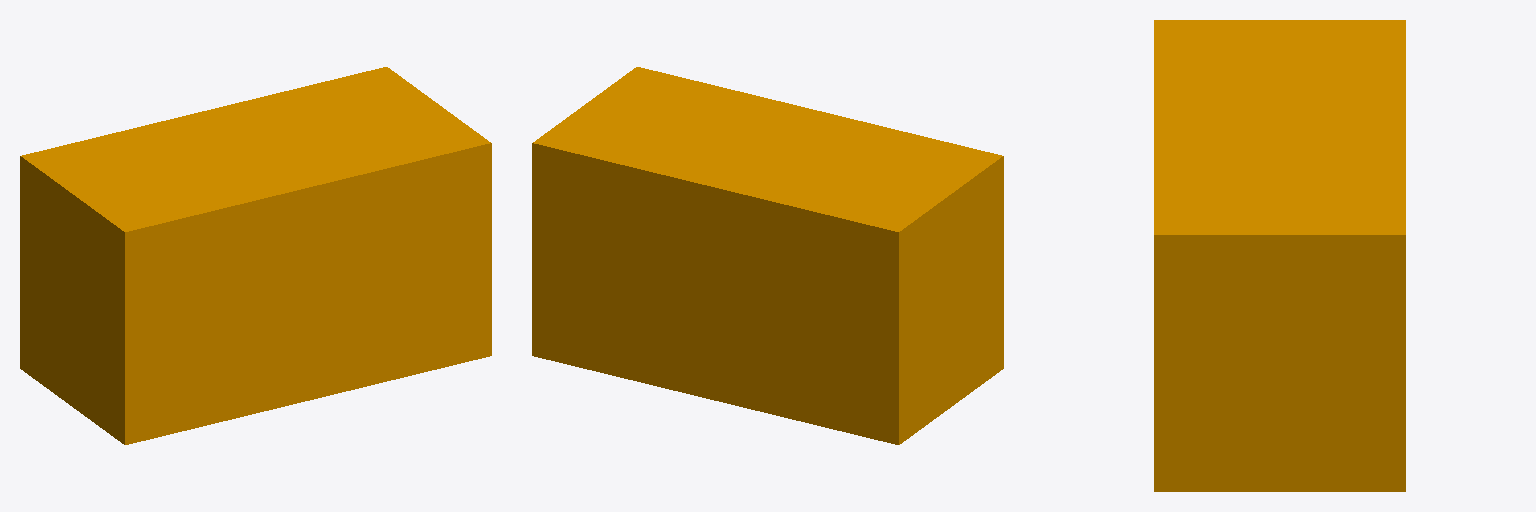
URDF robot description (solidTable):
<?xml version="1.0"?>
<robot name="solidTable">
	<link name="solidTable">
		<inertial>
			<origin rpy="0 0 0" xyz="0 0 0" />
			<mass value="6.0" />
			<!--inertia ixx="0.000360" ixy="0" ixz="0" iyy="0.0000615" iyz="0" izz="0.00036" /-->
		</inertial>
    		<visual>
	      		<origin rpy="0 0 0" xyz="0 0 0"/>
      			<geometry>
        			<mesh filename="solidTable.obj"/>
      			</geometry>
         	</visual>
    		<collision>
      			<origin rpy="0 0 0" xyz="0 0 0"/>
      			<geometry>
        			<mesh filename="solidTable.obj"/>
      			</geometry>
    		</collision>
	</link>
</robot>

--- Facts derived from the render (not from the file) ---
3 views of the same robot in one strip: view 1: azimuth 30°, elevation 25°; view 2: azimuth 150°, elevation 25°; view 3: azimuth 270°, elevation 25° (orthographic).
Model solidTable with 1 links and 0 joints (none), rooted at solidTable, posed all joints at 0.
Links seen in each view (by area): view 1: solidTable; view 2: solidTable; view 3: solidTable.
Link boxes in pixels (x1,y1,x2,y2): solidTable: [20, 67, 491, 444]; solidTable: [532, 67, 1003, 444]; solidTable: [1154, 20, 1405, 491].
Size in the robot's own frame: 1.21 by 0.596 by 0.67 metres.
Meshes: 1 distinct files referenced, 1 mesh visuals loaded (1 OBJ).